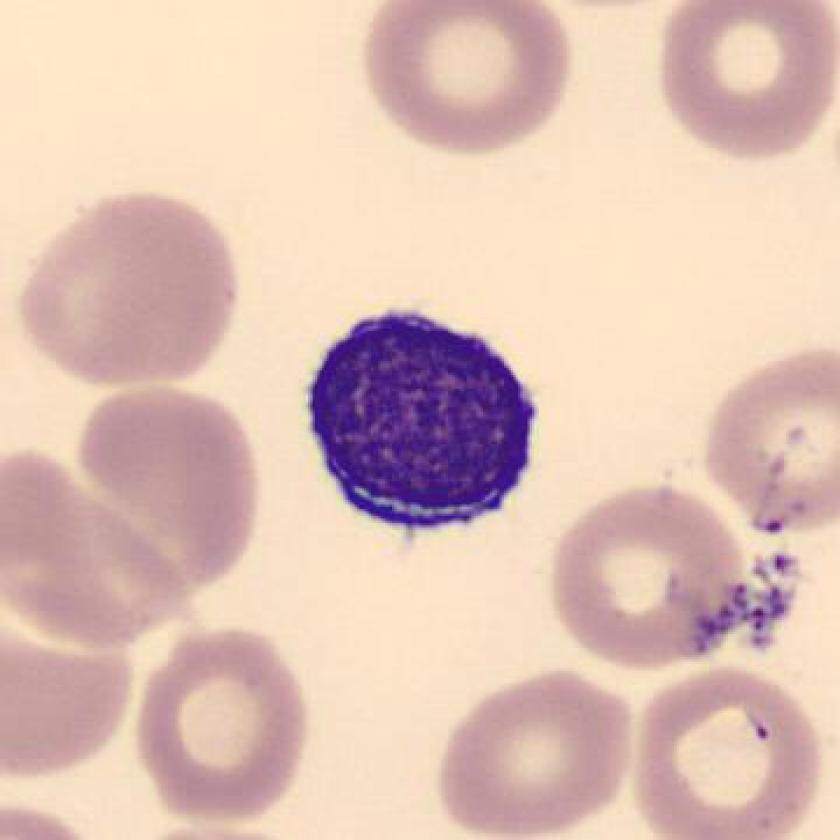lymphocyte: (300, 293, 549, 557)
